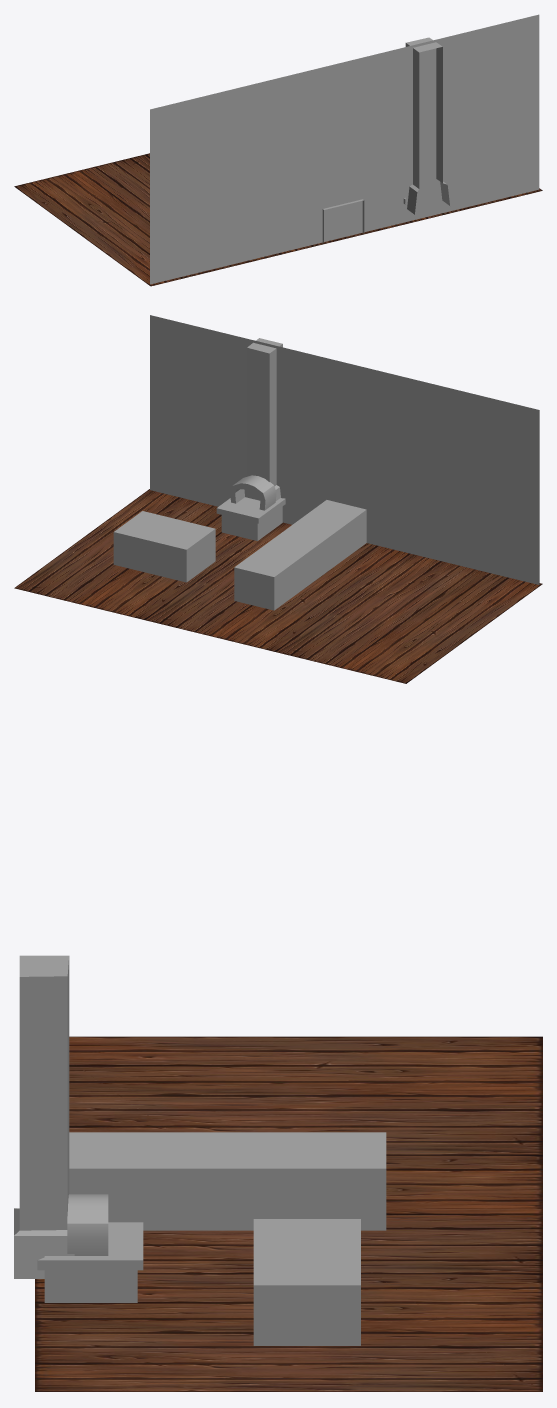
Rendered from Pub.fbx.
3 renders of one model, top to bottom at view 1: azimuth 30°, elevation 25°; view 2: azimuth 150°, elevation 25°; view 3: azimuth 270°, elevation 25°, orthographic. The views are drawn at different scales.
Visible parts, largest first — view 1: pPlane2, pPlane1, pCube6; view 2: pPlane2, pPlane1, pCube1, pCube6, pCube5; view 3: pPlane1, pCube1, pCube6, pCube5.
Part boxes in pixels (box(x1,y1,x2,y2)): pPlane2: box(150, 14, 539, 284); pPlane1: box(14, 153, 542, 286); pCube6: box(403, 37, 449, 214); pPlane2: box(150, 315, 539, 584); pPlane1: box(14, 489, 542, 683); pCube1: box(234, 500, 366, 610); pCube6: box(216, 338, 285, 540); pCube5: box(113, 511, 215, 582); pPlane1: box(35, 1036, 542, 1391); pCube1: box(69, 1132, 386, 1230); pCube6: box(14, 955, 143, 1302); pCube5: box(253, 1219, 360, 1345).
Bounding box in the file's own units: 165 × 70.82 × 103.
2 materials, 1 textured.
